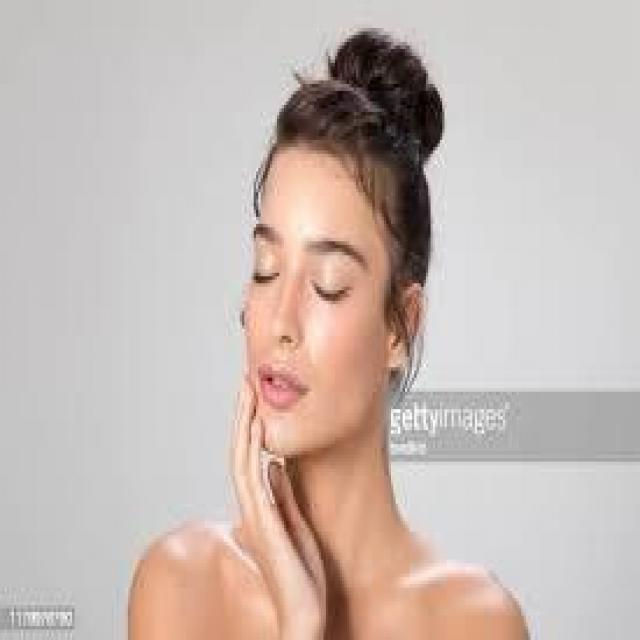person: (123, 39, 533, 636)
